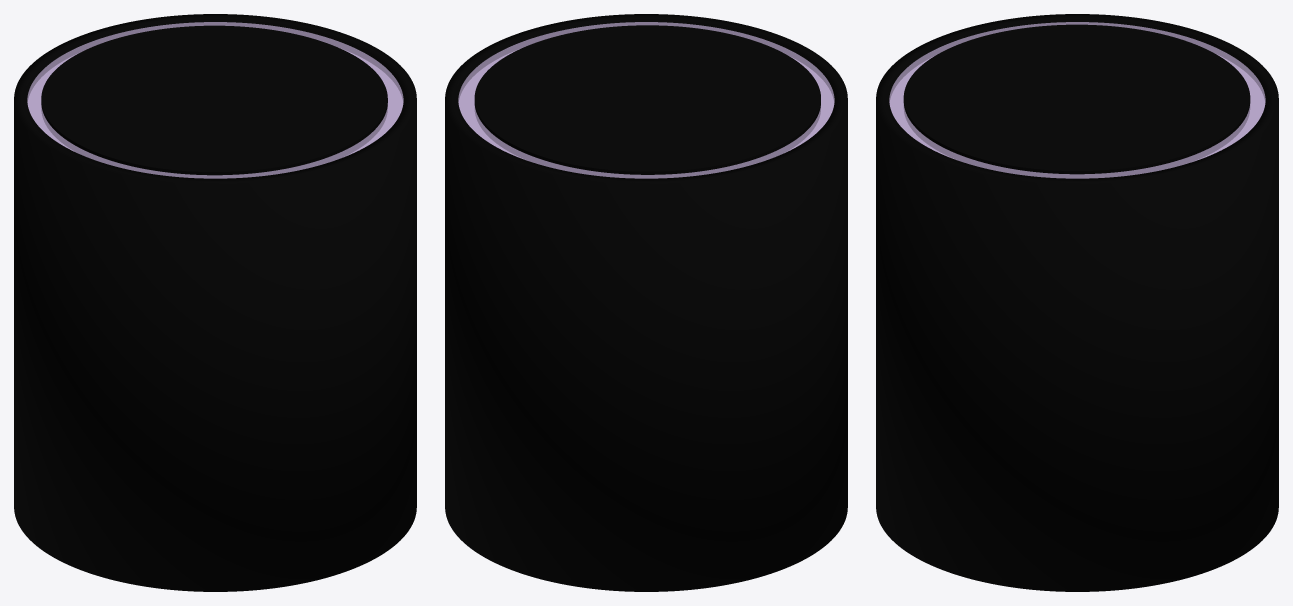
Rendered from Object_Pedestal_BlackRoundModern.glb.
The picture shows the model from 3 angles, left to right: view 1: azimuth 30°, elevation 25°; view 2: azimuth 150°, elevation 25°; view 3: azimuth 270°, elevation 25°; orthographic projection.
Visible parts, largest first — view 1: Pedestal Base, Cylinder Glass Top; view 2: Pedestal Base, Cylinder Glass Top; view 3: Pedestal Base, Cylinder Glass Top.
Boxes of the visible parts, x1,y1,x2,y2 form: Pedestal Base: (14,14,416,591); Cylinder Glass Top: (27,22,403,178); Pedestal Base: (445,14,847,591); Cylinder Glass Top: (458,22,834,178); Pedestal Base: (876,14,1278,591); Cylinder Glass Top: (889,22,1265,178).
Size of the model in its own units: 2.36 by 2.64 by 2.36.
